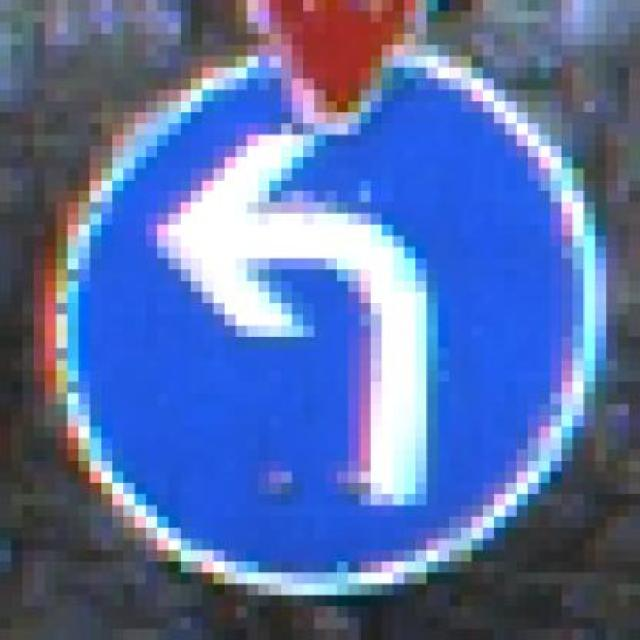Turn left ahead: (45, 34, 618, 606)
